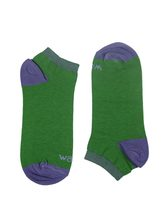sock: (11, 46, 82, 187), (87, 43, 154, 177)
